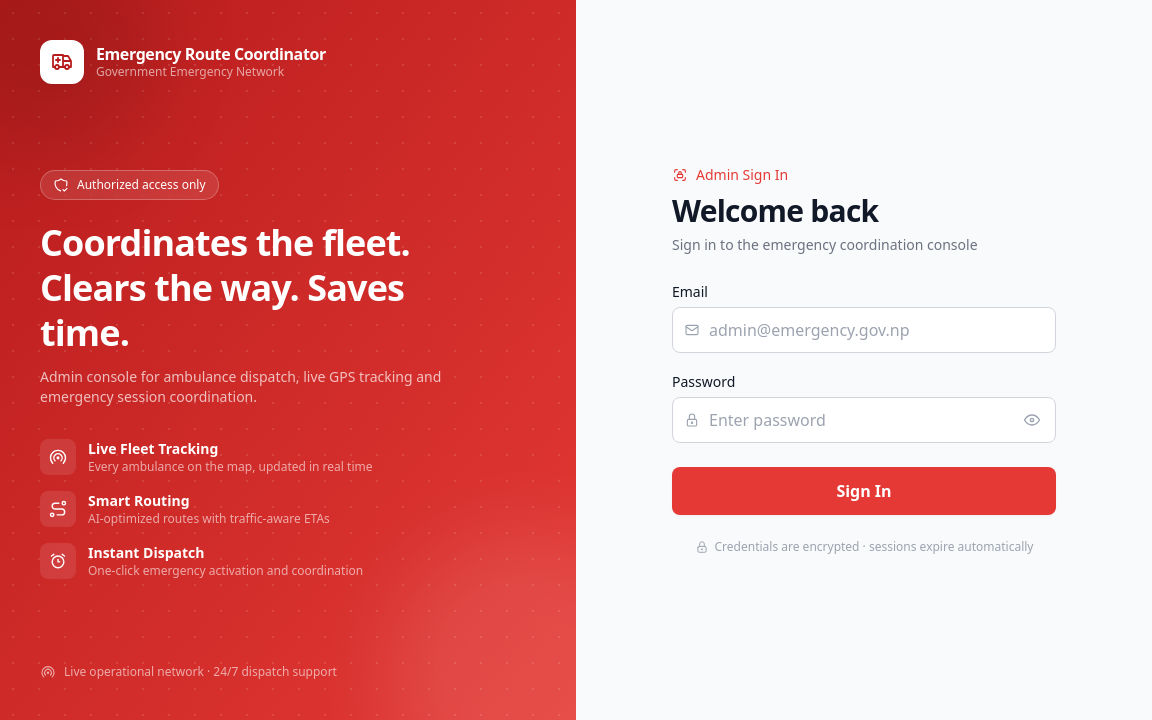
LoginPage Component › displays error if non-admin user attempts login
Type "driver@emergency.gov.np" into the field with placeholder "admin@emergency.gov.np".
click(864, 330); type("driver@emergency.gov.np")  # box [672,307,1056,353]
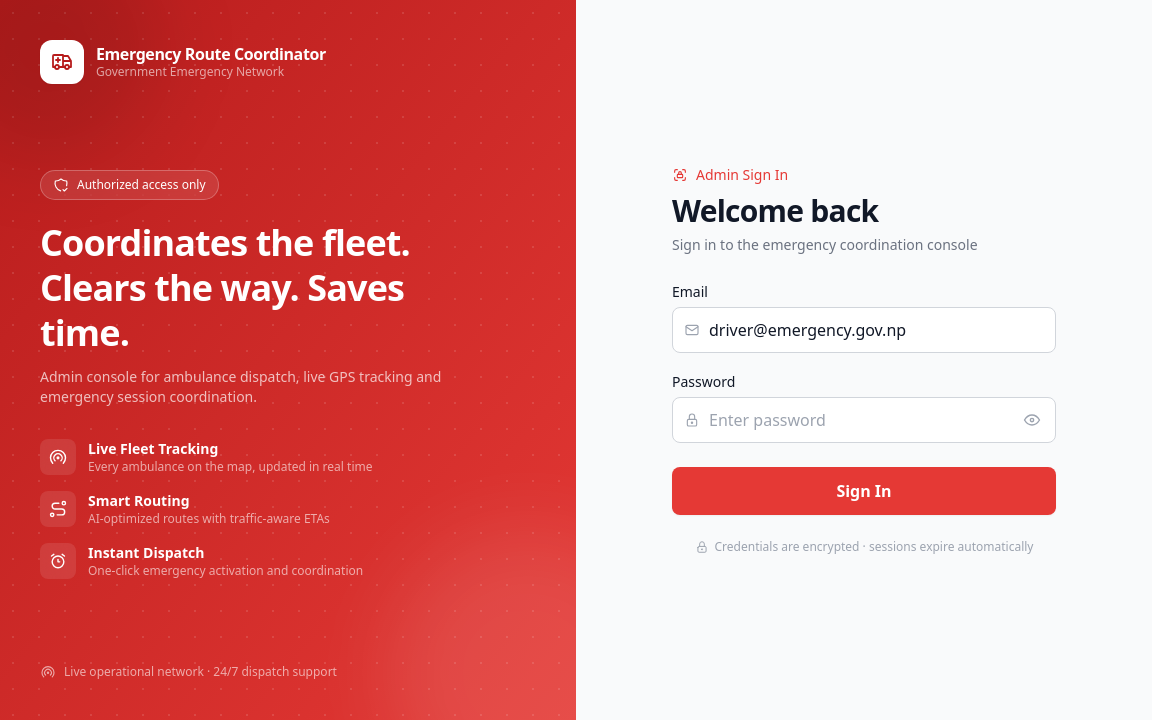
Type "Driver@12345" into the password field with placeholder "Enter password".
click(864, 420); type("Driver@12345")  # box [672,397,1056,443]
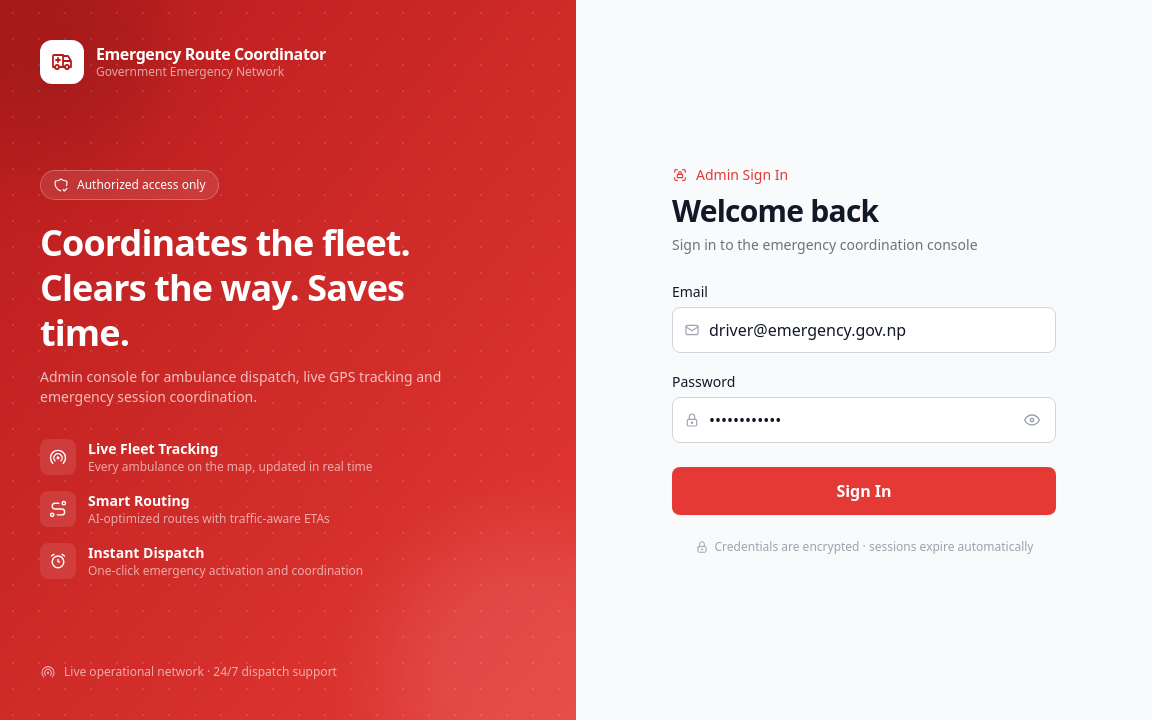
Submit the form, box [672,165,1056,555]
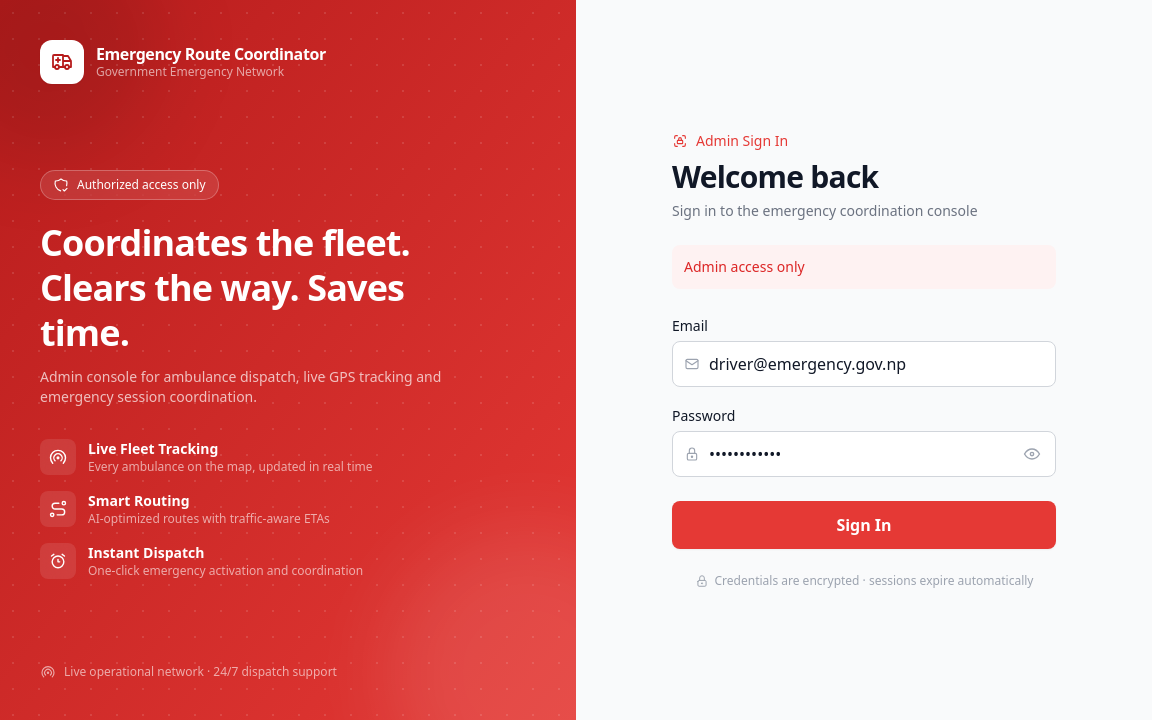
Expected: the text "Admin access only" is shown, [672,245,1056,289]
